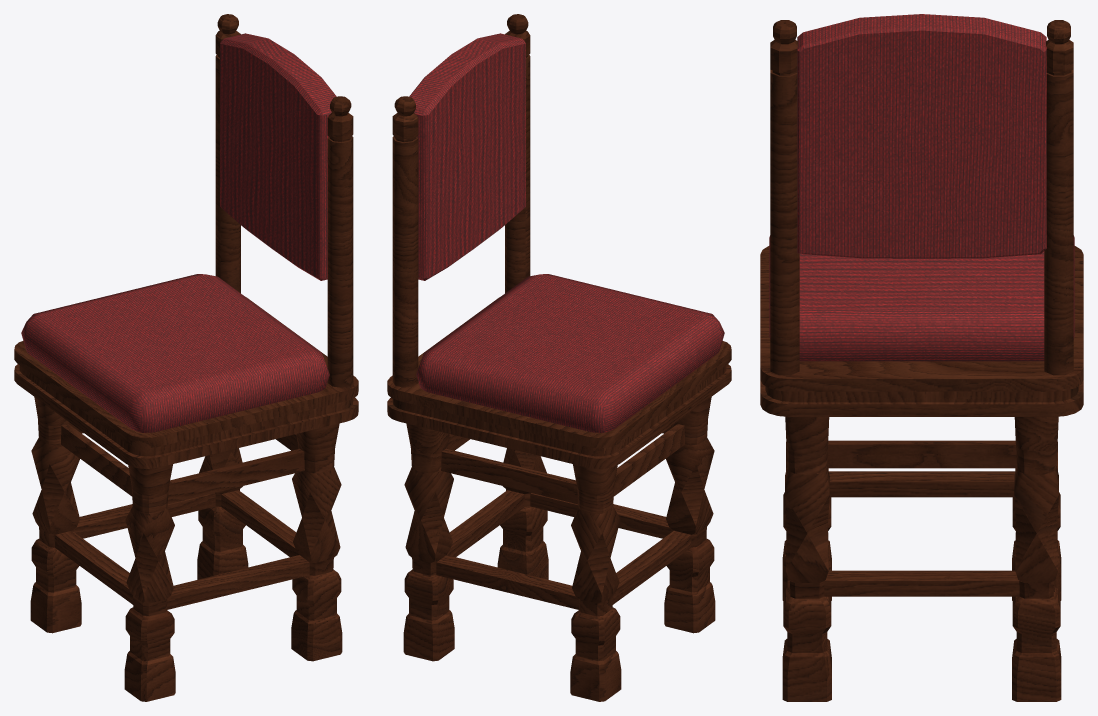
The model's file is isu_2x2.fbx.
The picture shows the model from 3 angles, left to right: view 1: azimuth 30°, elevation 25°; view 2: azimuth 150°, elevation 25°; view 3: azimuth 270°, elevation 25°; orthographic projection. The views are drawn at different scales.
Parts seen in each view (by area): view 1: pCube57, pCube58, pCube54, pCylinder18; view 2: pCube57, pCube58, pCube54, pCylinder18; view 3: pCube57, pCube54, pCube58, pCylinder18.
Part boxes in pixels (x1,y1,x2,y2): pCube57: [14, 297, 358, 701]; pCube58: [21, 274, 329, 432]; pCube54: [220, 33, 336, 280]; pCylinder18: [215, 14, 353, 387]; pCube57: [387, 297, 731, 701]; pCube58: [416, 274, 724, 432]; pCube54: [409, 33, 525, 280]; pCylinder18: [392, 14, 530, 387]; pCube57: [760, 246, 1083, 701]; pCube54: [797, 14, 1046, 258]; pCube58: [769, 235, 1074, 361]; pCylinder18: [770, 20, 1073, 375].
Bounding box in the file's own units: 2 × 4.64 × 2.
Materials: 1 (1 with a texture image).
